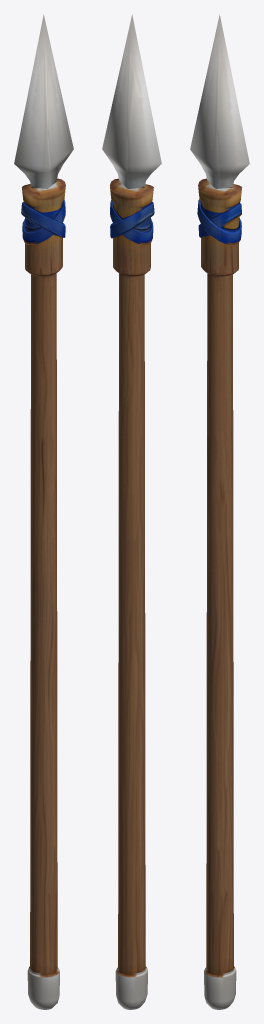
File: spearman_spear_v1_tex.fbx
3 renders of one model, left to right at view 1: azimuth 30°, elevation 25°; view 2: azimuth 150°, elevation 25°; view 3: azimuth 330°, elevation 25°, orthographic.
Visible parts, largest first — view 1: db8fa3d3_ed2b_4516_a783_3daf9c324db5; view 2: db8fa3d3_ed2b_4516_a783_3daf9c324db5; view 3: db8fa3d3_ed2b_4516_a783_3daf9c324db5.
Boxes of the visible parts, x1=… form: db8fa3d3_ed2b_4516_a783_3daf9c324db5: x1=14, y1=14, x2=73, y2=1009; db8fa3d3_ed2b_4516_a783_3daf9c324db5: x1=102, y1=14, x2=161, y2=1009; db8fa3d3_ed2b_4516_a783_3daf9c324db5: x1=190, y1=14, x2=249, y2=1009.
Size of the model in its own units: 0.063 by 0.9995 by 0.0396.
Materials: 1 (1 with a texture image).
